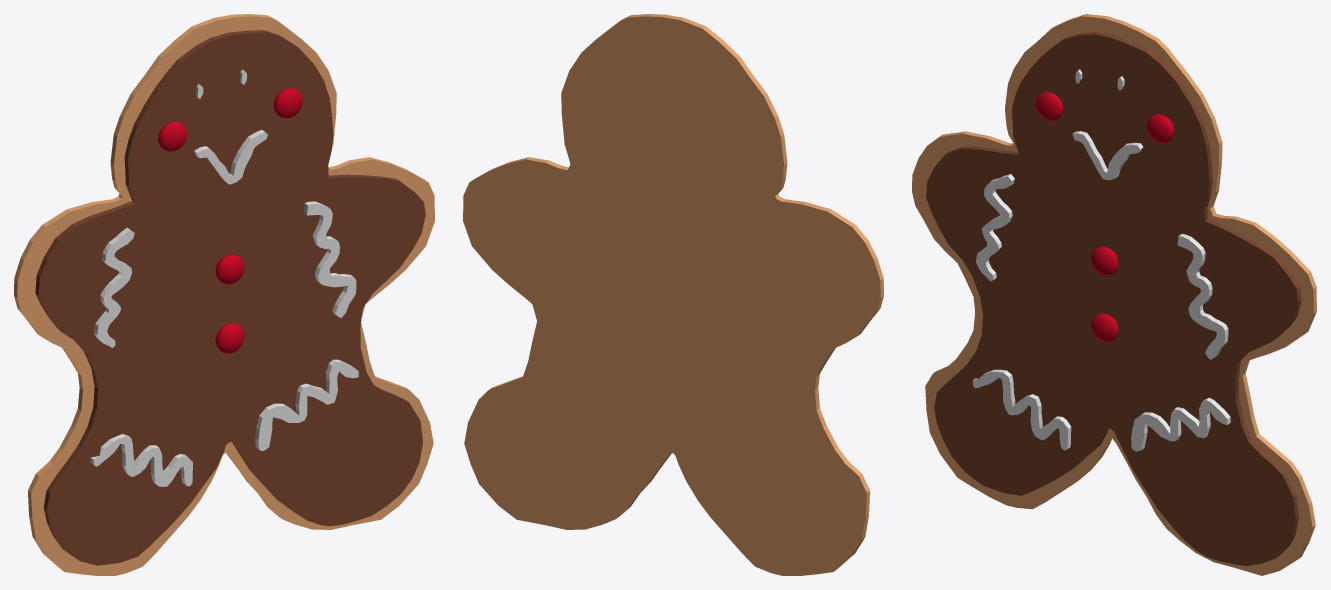
The model's file is Monster.glb.
3 renders of one model, left to right at view 1: azimuth 30°, elevation 25°; view 2: azimuth 150°, elevation 25°; view 3: azimuth 330°, elevation 25°, orthographic. The views are drawn at different scales.
Visible parts, largest first — view 1: Monster; view 2: Monster; view 3: Monster.
Boxes of the visible parts, bbox=[...] form: Monster: bbox=[14, 14, 434, 575]; Monster: bbox=[463, 14, 883, 575]; Monster: bbox=[912, 14, 1316, 575].
Size of the model in its own units: 0.3581 by 0.4421 by 0.0204.
